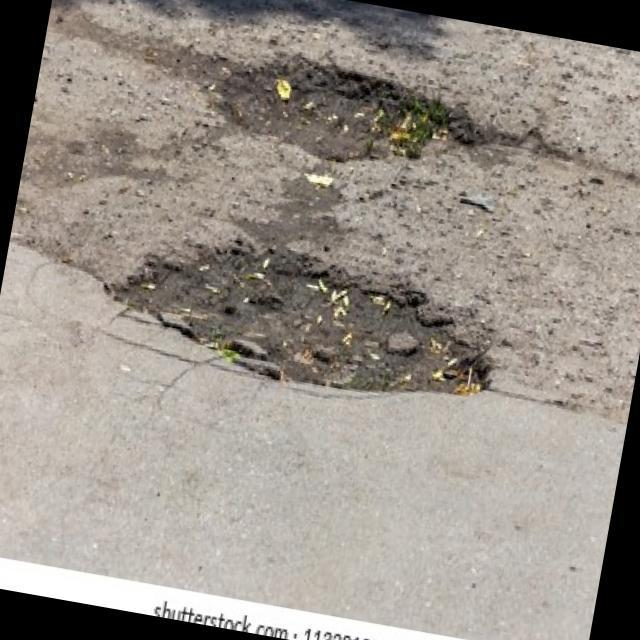Pothole: (96, 224, 506, 416), (204, 43, 476, 186)
